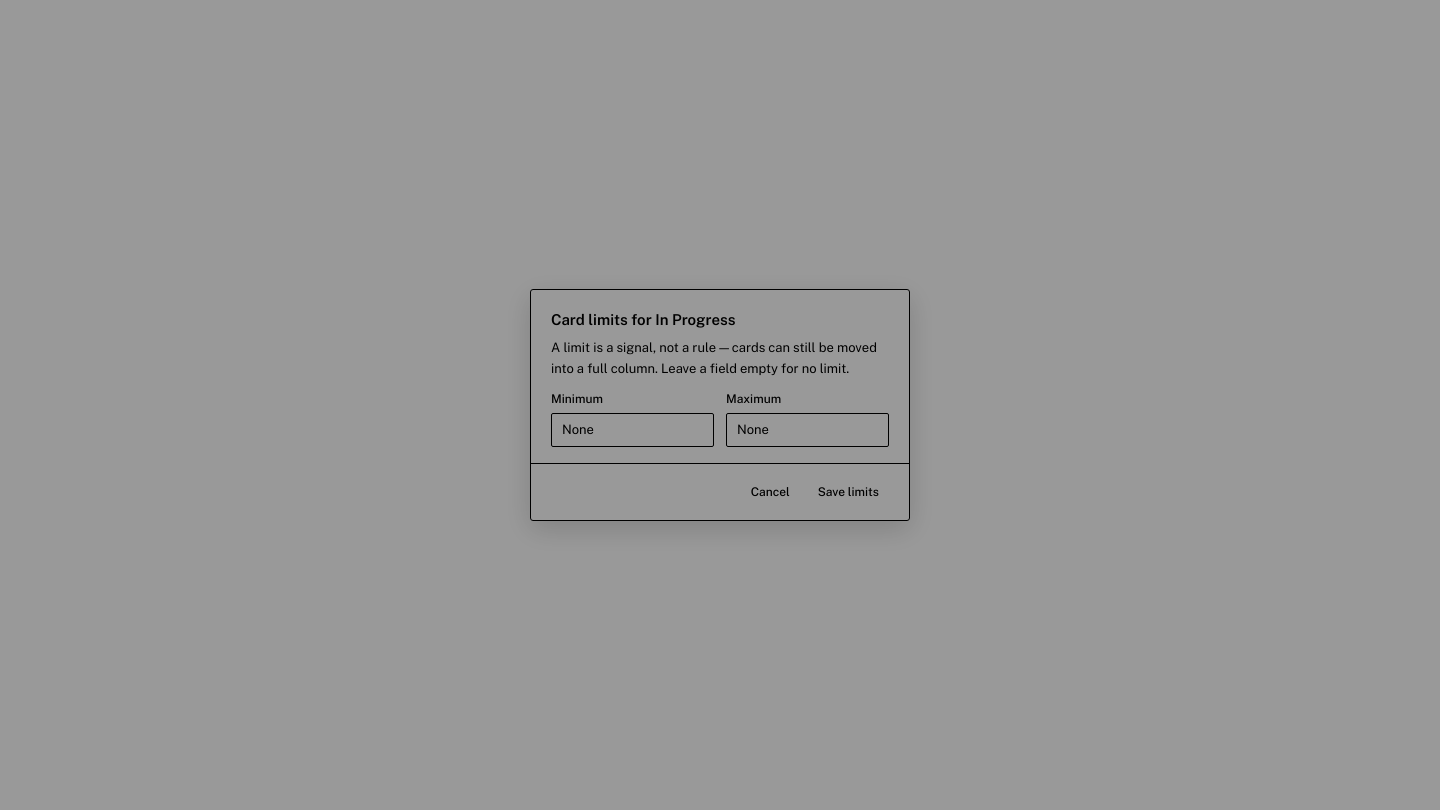
Test: ColumnLimitDialog › refuses a minimum above the maximum before spending a round trip
This screenshot has width=1440, height=810.
Type "9" into the field labelled "Minimum" at (632, 430), box [551,413,714,447]
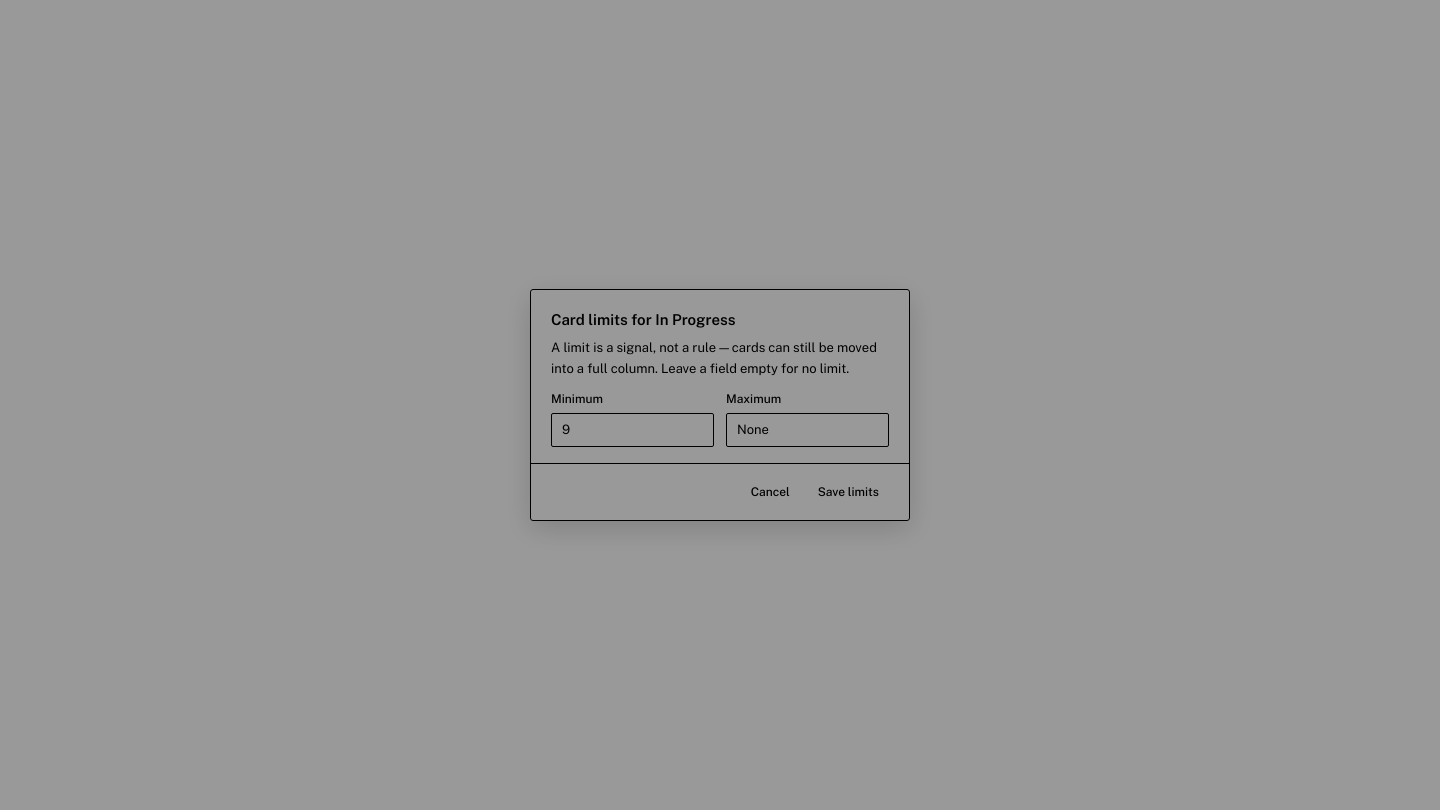
Type "2" into the field labelled "Maximum" at (808, 430), box [726,413,889,447]
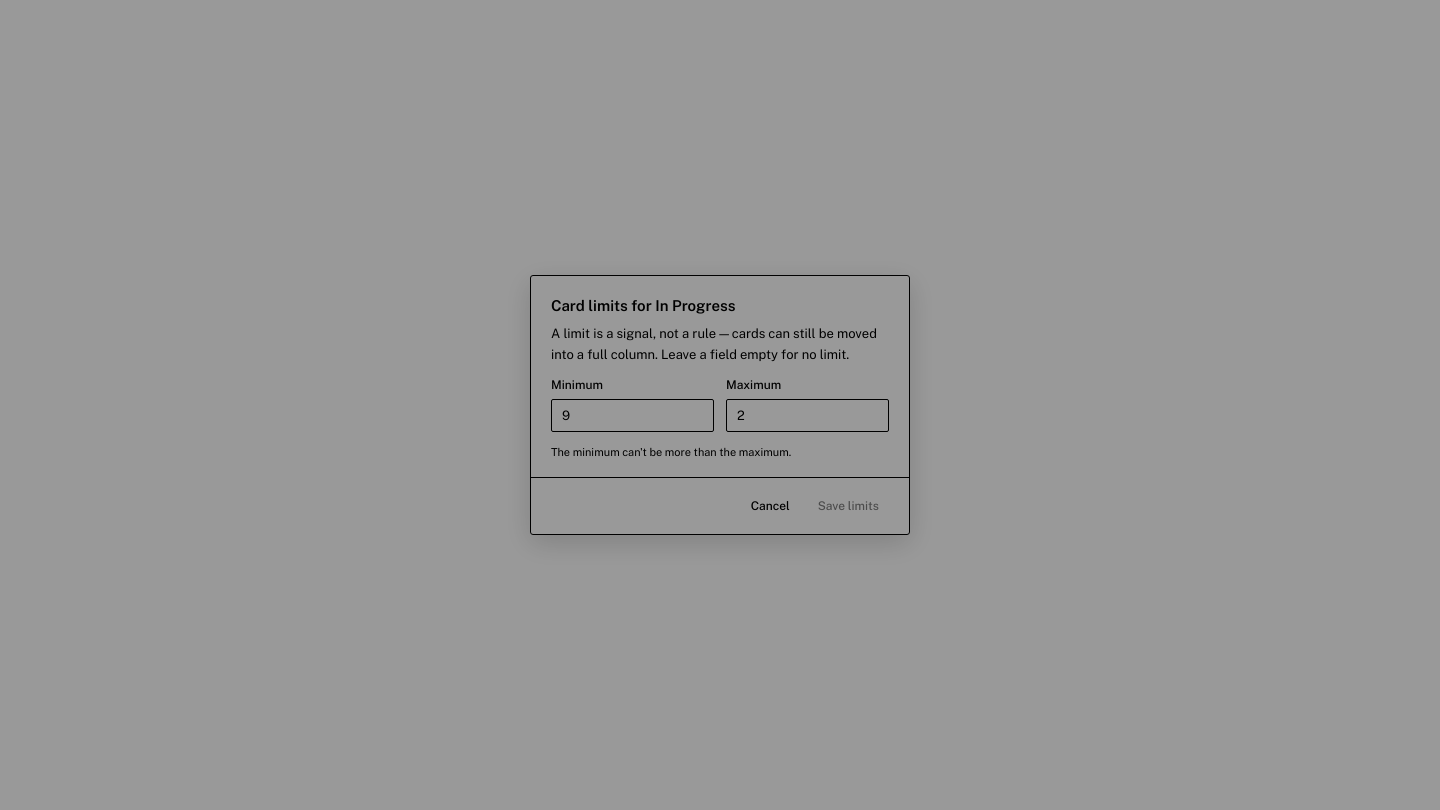
Result: the message shows "can't be more than the maximum" at [551,446,791,458]
Result: the button "Save limits" is disabled at [808,492,889,520]
